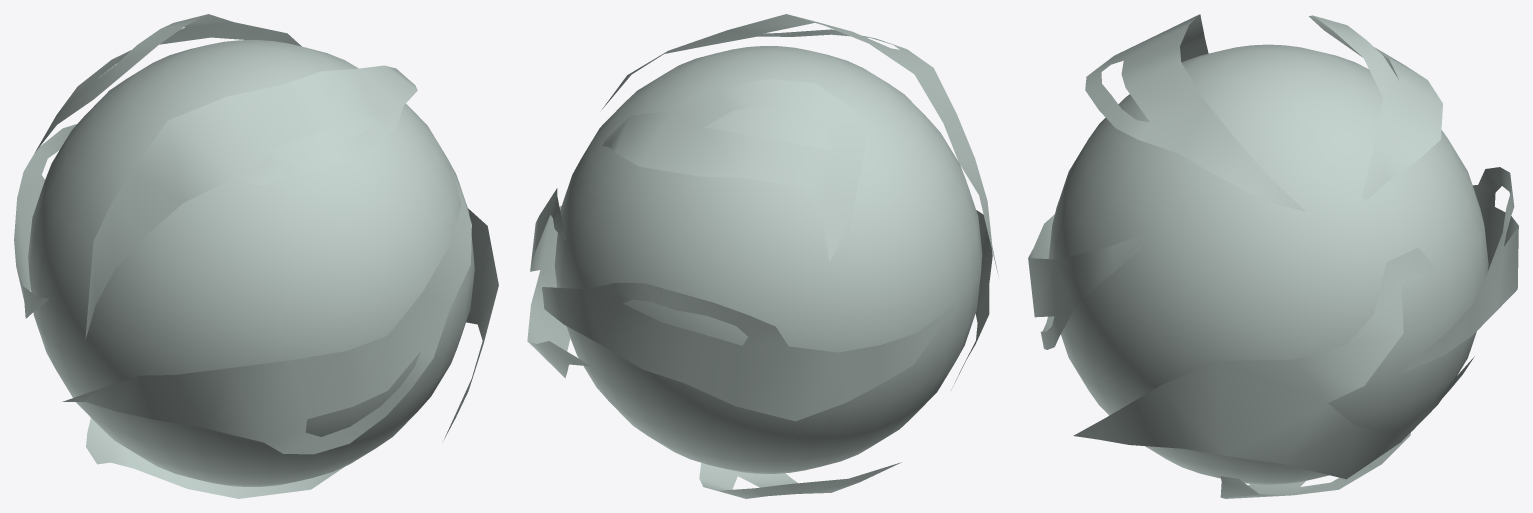
File: orbs.gltf
3 views of the same model, side by side, from view 1: azimuth 30°, elevation 25°; view 2: azimuth 150°, elevation 25°; view 3: azimuth 270°, elevation 25° (orthographic). The views are drawn at different scales.
Visible parts, largest first — view 1: spirit; view 2: spirit; view 3: spirit.
Part boxes in pixels (box(x1,y1,x2,y2)): spirit: box(14, 14, 498, 498); spirit: box(527, 14, 998, 498); spirit: box(1028, 14, 1518, 498).
Size of the model in its own units: 2.16 by 2.21 by 2.23.
Materials: 1 (1 with a texture image).
